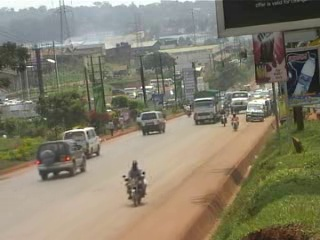Car: (33, 136, 90, 180)
Motorcycle: (121, 162, 150, 207), (216, 107, 229, 128), (230, 111, 241, 134), (183, 99, 194, 118)
